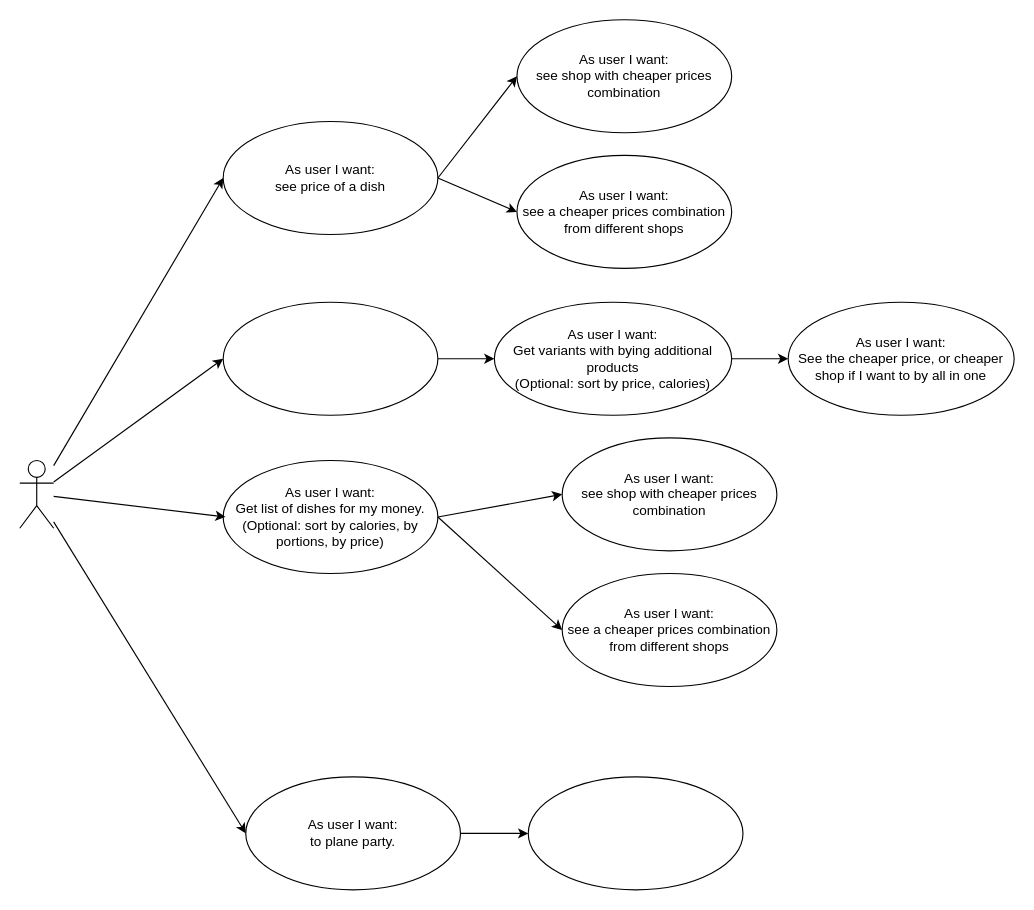
This 1034x910 diagram has some shape labels left out. Here are the shapes that lost their labels. From the top down, the centre of each, then its label:
At point 330,358: "As user I want: Get list of dishes for my products. (Optional: sort by calories)".
At point 36,493: "Actor".
At point 635,833: "As user I want: set a list of dishes (see it as a new table)".
